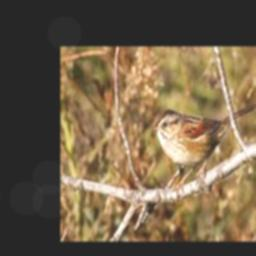Sparrow: (151, 105, 255, 199)
